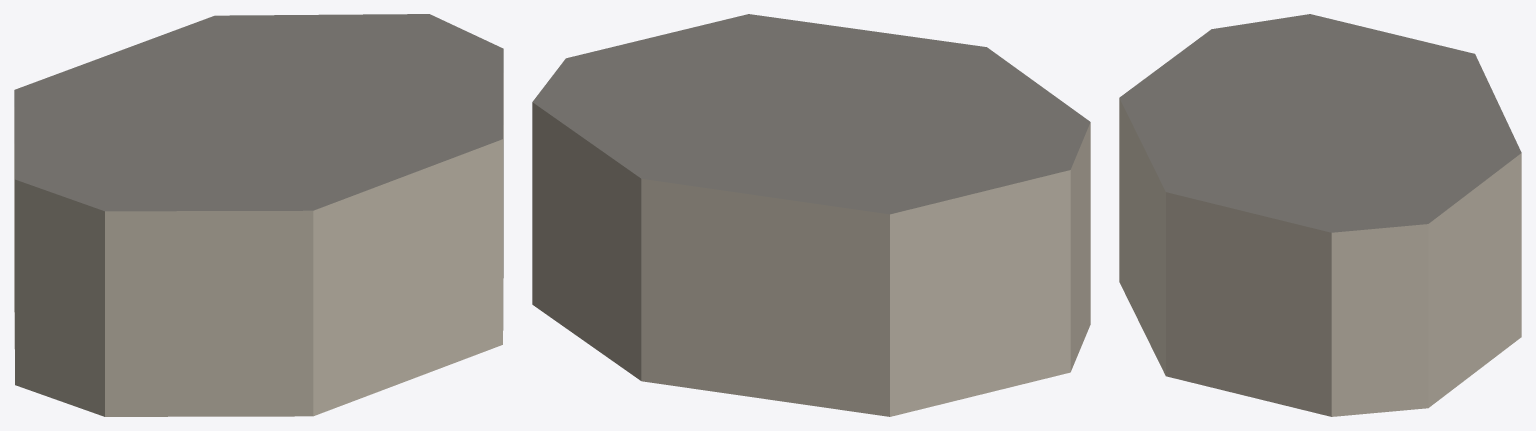
3 views of the same model, side by side, from view 1: azimuth 30°, elevation 25°; view 2: azimuth 150°, elevation 25°; view 3: azimuth 270°, elevation 25° (orthographic). The views are drawn at different scales.
Parts seen in each view (by area): view 1: HP-w350277189; view 2: HP-w350277189; view 3: HP-w350277189.
Boxes of the visible parts, x1=… form: HP-w350277189: x1=14, y1=14, x2=503, y2=416; HP-w350277189: x1=532, y1=14, x2=1090, y2=416; HP-w350277189: x1=1119, y1=14, x2=1521, y2=416.
Bounding box in the file's own units: 45.84 × 18 × 35.63.
